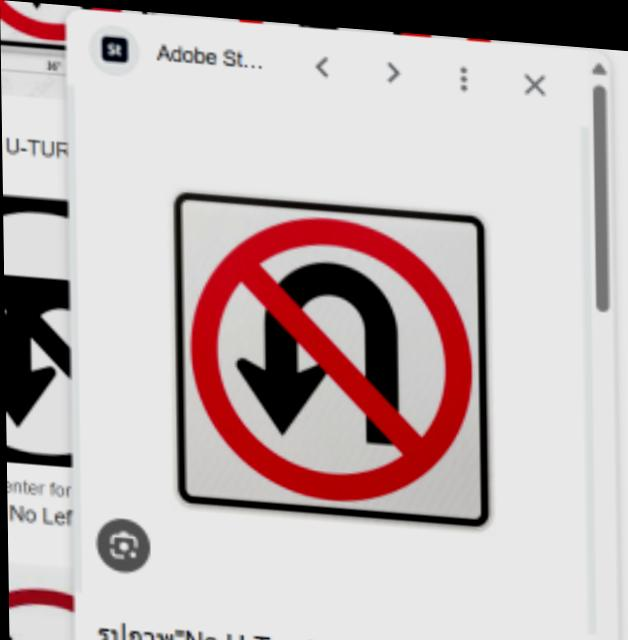not_u_turn_left: (192, 202, 484, 507)
